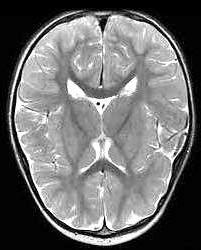Normal_Brain: (7, 6, 198, 250)
